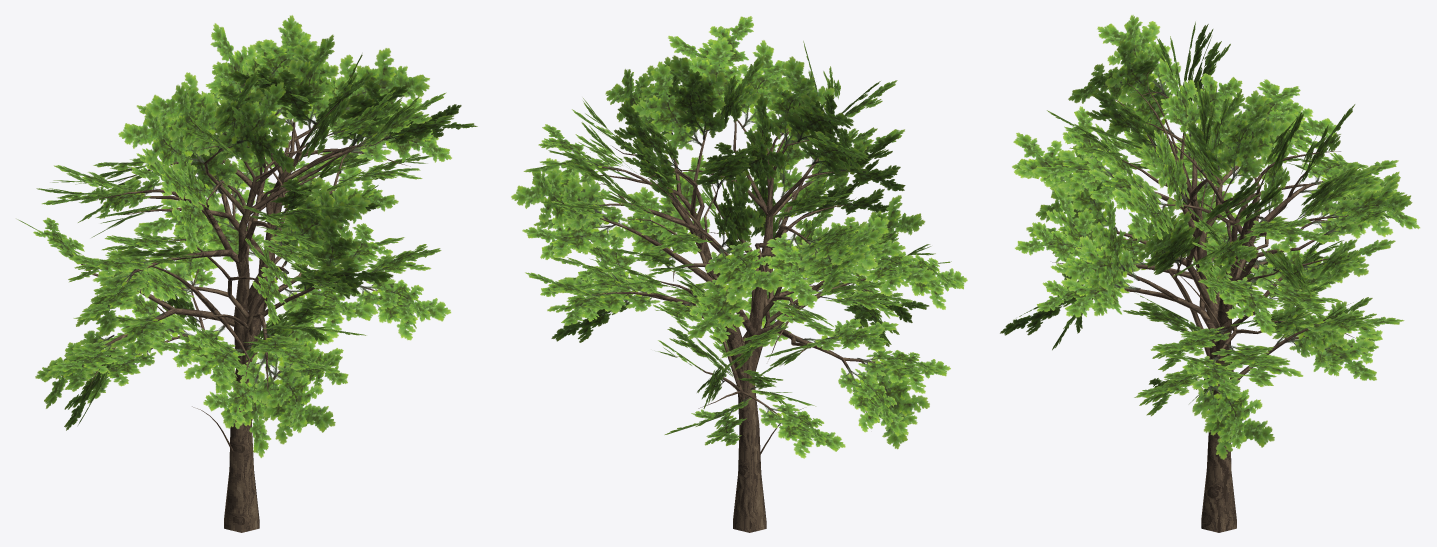
Rendered from oakTree1.glb.
3 views of the same model, side by side, from view 1: azimuth 30°, elevation 25°; view 2: azimuth 150°, elevation 25°; view 3: azimuth 270°, elevation 25° (orthographic). The views are drawn at different scales.
Parts seen in each view (by area): view 1: leaves1, tree.001; view 2: leaves1, tree.001; view 3: leaves1, tree.001.
Boxes of the visible parts, <box> form: leaves1: <box>17,15,477,457</box>; tree.001: <box>81,83,410,532</box>; leaves1: <box>511,16,967,458</box>; tree.001: <box>593,118,883,532</box>; leaves1: <box>1000,15,1420,459</box>; tree.001: <box>1052,67,1358,532</box>.
Size of the model in its own units: 15.3 by 17.37 by 13.91.
2 materials, 2 textured.
